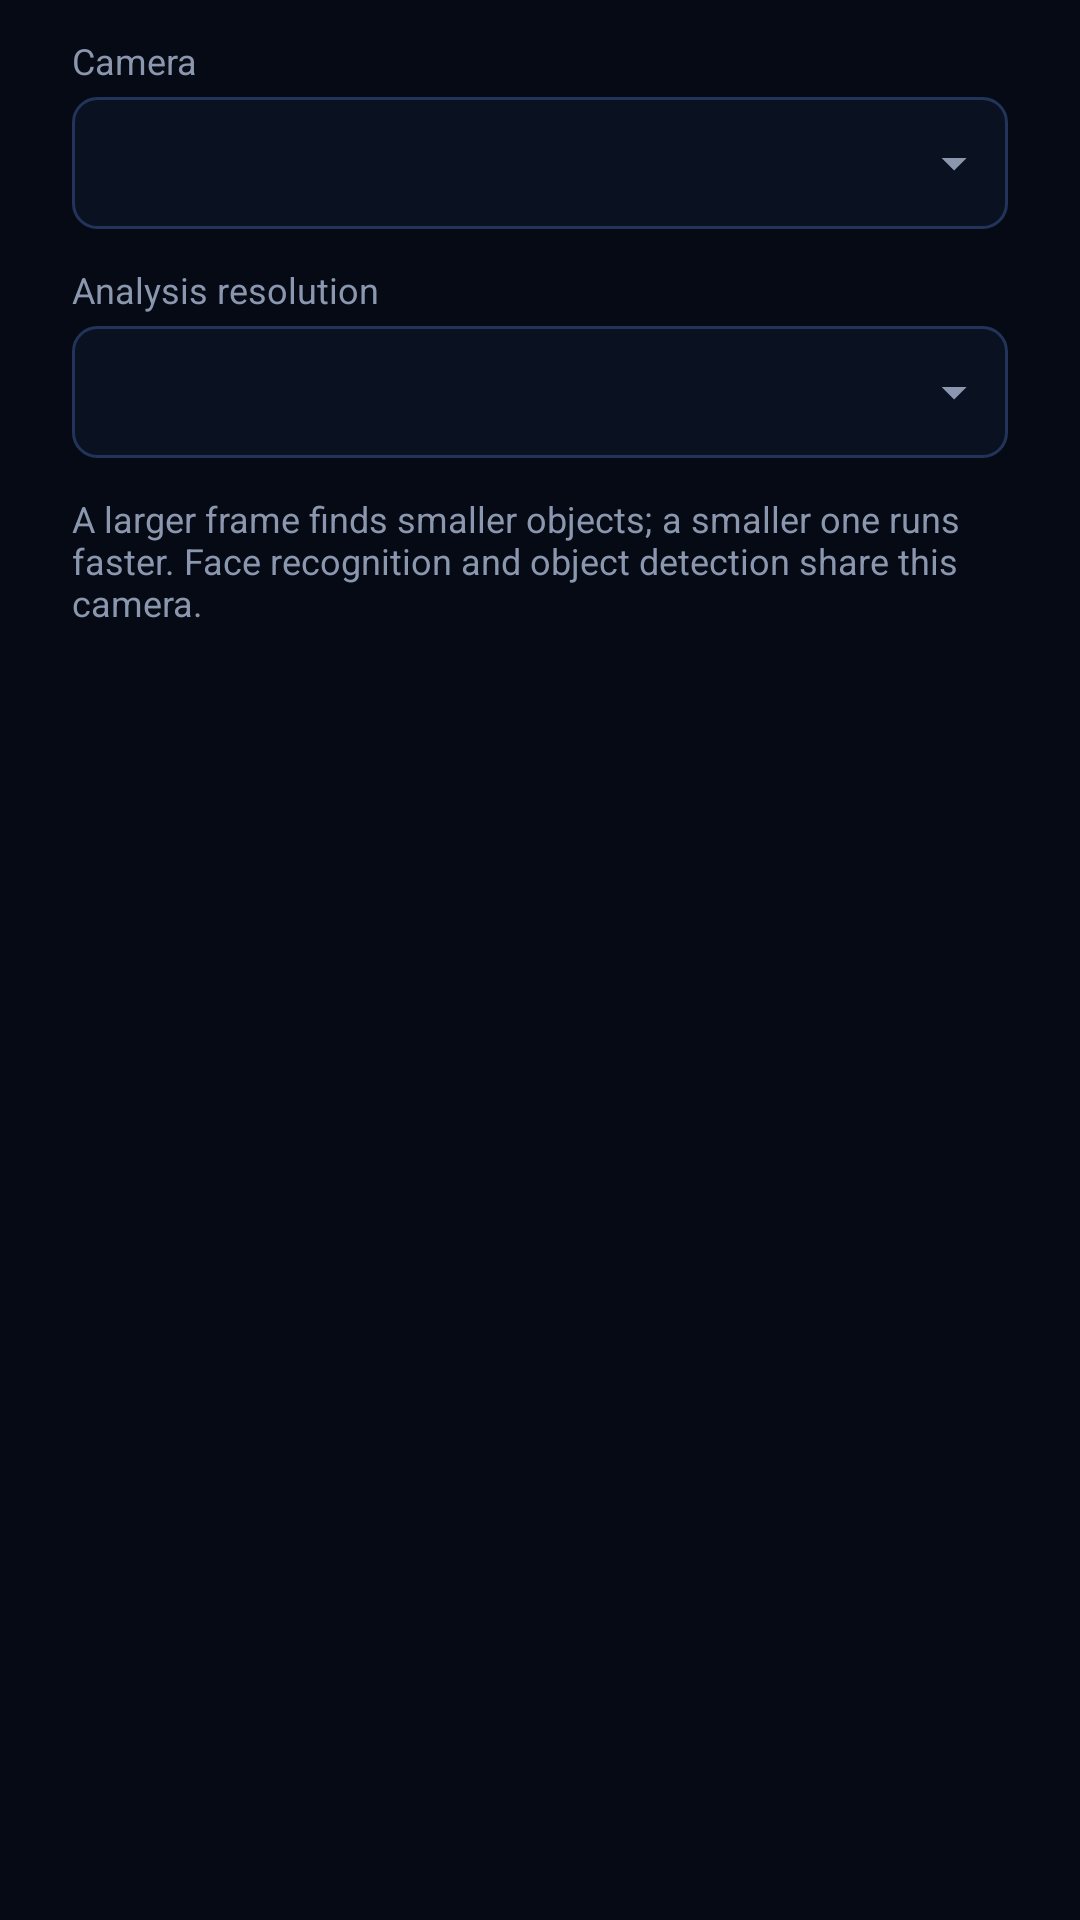

Icon bounding boxes for this 1080 x 1920 phone screenshot, format Rect(x1, y1, x2, y2):
dropdown: Rect(942, 158, 967, 171), Rect(942, 387, 967, 400)
